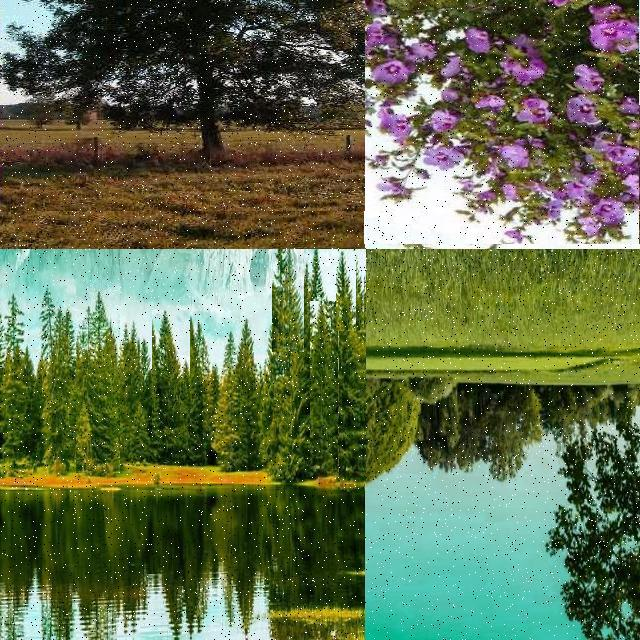tree: (0, 0, 365, 211), (364, 0, 640, 244), (492, 359, 640, 640), (76, 283, 120, 473), (334, 249, 366, 493), (212, 314, 260, 466), (338, 248, 366, 480), (422, 378, 486, 478), (40, 283, 74, 469), (366, 376, 418, 492), (0, 280, 33, 462), (340, 248, 364, 492), (152, 310, 190, 462), (342, 249, 366, 481), (310, 301, 338, 469), (273, 343, 307, 481), (483, 386, 529, 486), (272, 248, 304, 352), (336, 251, 356, 331), (626, 382, 640, 462), (308, 249, 324, 309)
